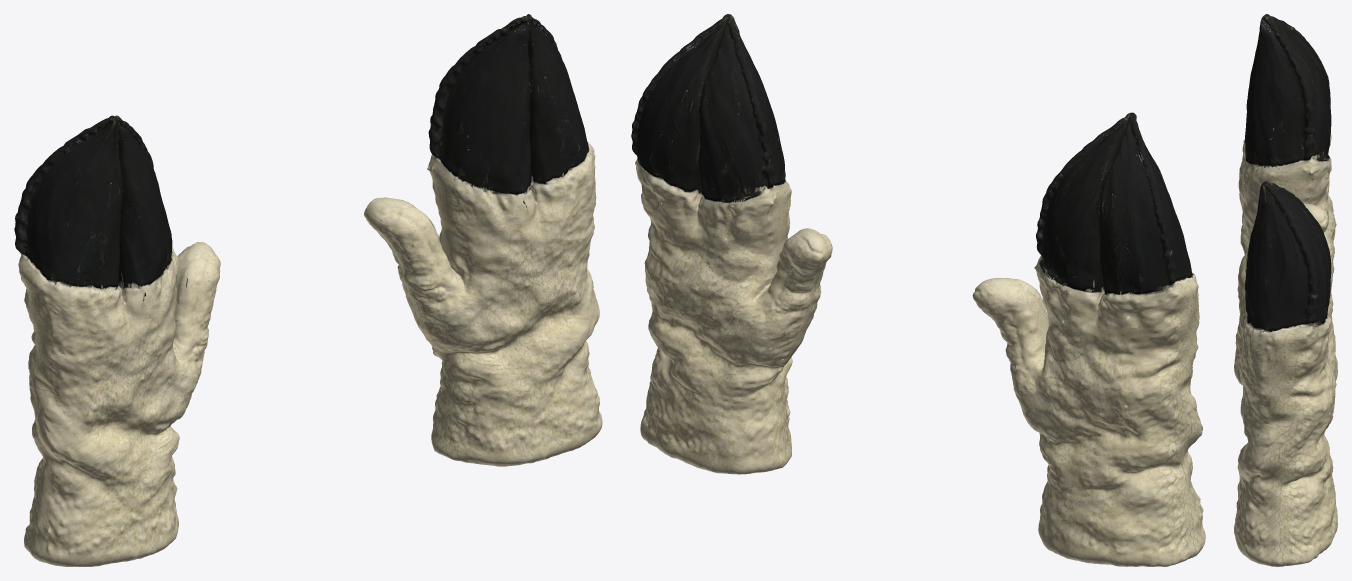
The model's file is Glove_pair.glb.
3 renders of one model, left to right at view 1: azimuth 30°, elevation 25°; view 2: azimuth 150°, elevation 25°; view 3: azimuth 270°, elevation 25°, orthographic. The views are drawn at different scales.
Visible parts, largest first — view 1: Glove_R_Palm, Glove_L_Palm, Glove_R_Toe_IndexMiddle, Glove_L_Toe_RingLittle, Glove_L_Toe_IndexMiddle, Glove_R_Toe_RingLittle; view 2: Glove_L_Palm, Glove_R_Palm, Glove_L_Toe_RingLittle, Glove_R_Toe_IndexMiddle, Glove_L_Toe_IndexMiddle, Glove_R_Toe_RingLittle; view 3: Glove_R_Palm, Glove_L_Toe_IndexMiddle, Glove_R_Toe_RingLittle, Glove_L_Palm, Glove_R_Toe_IndexMiddle, Glove_L_Toe_RingLittle.
Part boxes in pixels (x1,y1,x2,y2): Glove_R_Palm: [364, 196, 602, 466]; Glove_L_Palm: [24, 242, 220, 566]; Glove_R_Toe_IndexMiddle: [427, 14, 538, 230]; Glove_L_Toe_RingLittle: [14, 120, 131, 330]; Glove_L_Toe_IndexMiddle: [104, 115, 178, 320]; Glove_R_Toe_RingLittle: [530, 17, 595, 221]; Glove_L_Palm: [972, 278, 1205, 566]; Glove_R_Palm: [640, 200, 832, 474]; Glove_L_Toe_RingLittle: [1090, 122, 1199, 329]; Glove_R_Toe_IndexMiddle: [696, 14, 791, 234]; Glove_L_Toe_IndexMiddle: [1034, 112, 1139, 318]; Glove_R_Toe_RingLittle: [631, 21, 718, 223]; Glove_R_Palm: [1234, 332, 1337, 566]; Glove_L_Toe_IndexMiddle: [1242, 14, 1331, 200]; Glove_R_Toe_RingLittle: [1239, 188, 1331, 367]; Glove_L_Palm: [1234, 172, 1337, 385]; Glove_R_Toe_IndexMiddle: [1242, 181, 1331, 338]; Glove_L_Toe_RingLittle: [1239, 17, 1331, 175].
Size of the model in its own units: 0.3325 by 0.247 by 0.0641.
Materials: 1 (1 with a texture image).
